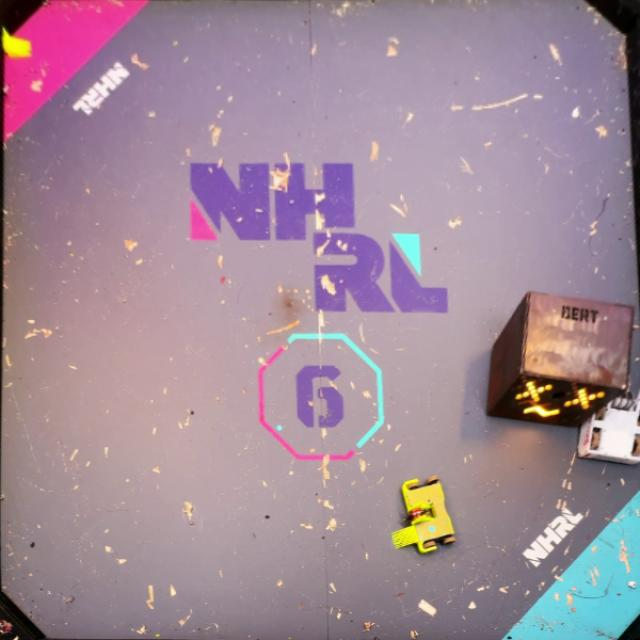housebot: (488, 292, 634, 427)
robot: (391, 475, 458, 554), (577, 385, 640, 464)
